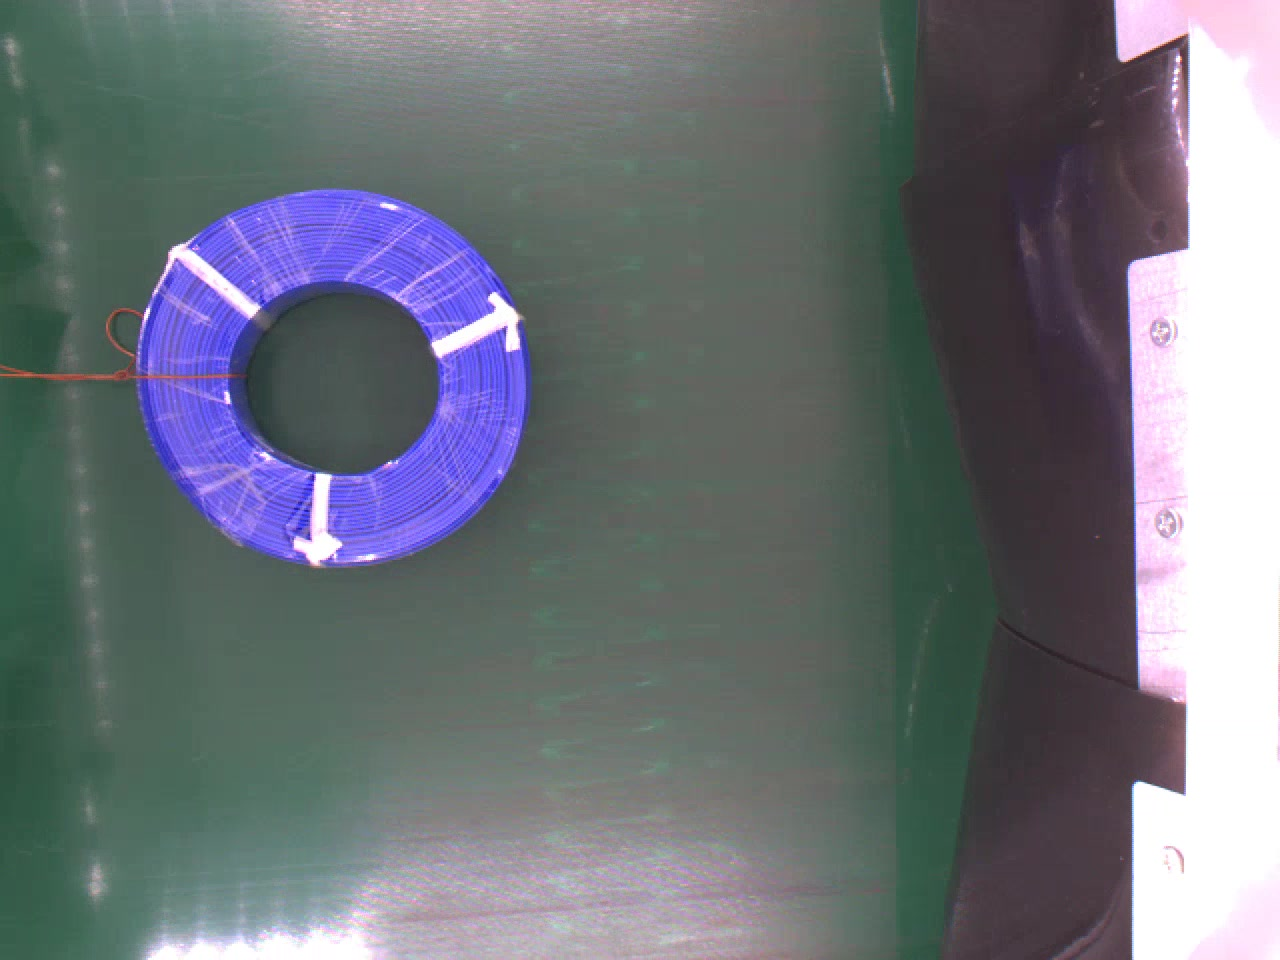blue: (132, 185, 523, 563)
